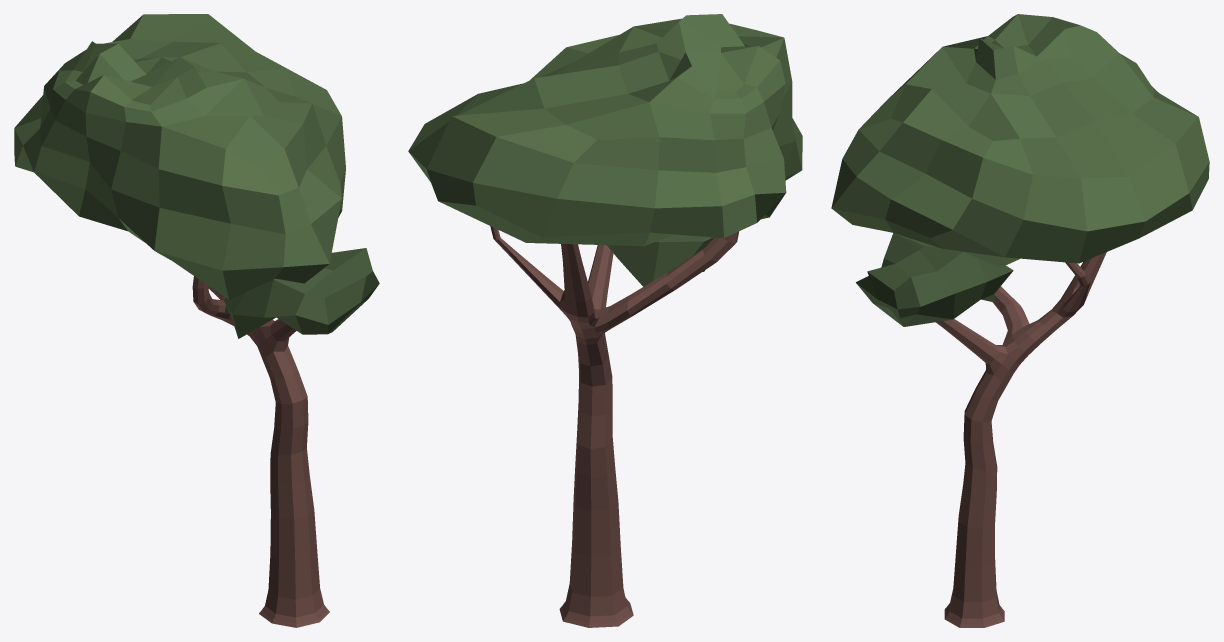
The model's file is CommonTree_4.glb.
3 renders of one model, left to right at view 1: azimuth 30°, elevation 25°; view 2: azimuth 150°, elevation 25°; view 3: azimuth 270°, elevation 25°, orthographic. The views are drawn at different scales.
Visible parts, largest first — view 1: Green, Wood, DarkGreen; view 2: Green, Wood, DarkGreen; view 3: Green, Wood, DarkGreen.
Boxes of the visible parts, left/top/right/bottom form: Green: left=14, top=14, right=345, bottom=299; Wood: left=192, top=276, right=329, bottom=627; DarkGreen: left=224, top=248, right=379, bottom=338; Green: left=408, top=14, right=802, bottom=246; Wood: left=490, top=226, right=738, bottom=627; DarkGreen: left=607, top=234, right=714, bottom=286; Green: left=831, top=14, right=1209, bottom=267; Wood: left=936, top=252, right=1106, bottom=627; DarkGreen: left=856, top=233, right=1013, bottom=326.
Size of the model in its own units: 4.1 by 7.24 by 4.68.
